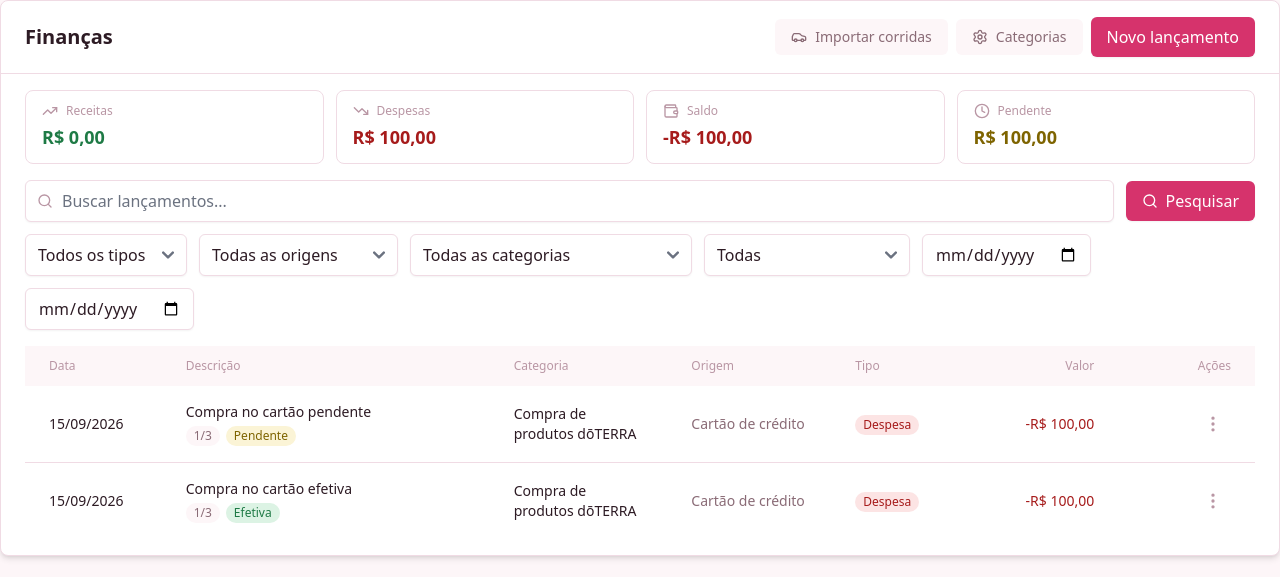
Finances effectiveness filter › refetches with effective=no and hides the effective rows
Expected: the text "Compra no cartão pendente" is shown, left=186, top=402, right=371, bottom=421
Select "Somente pendentes" in the dropdown named "Efetividade" at (807, 255), box left=704, top=234, right=910, bottom=276
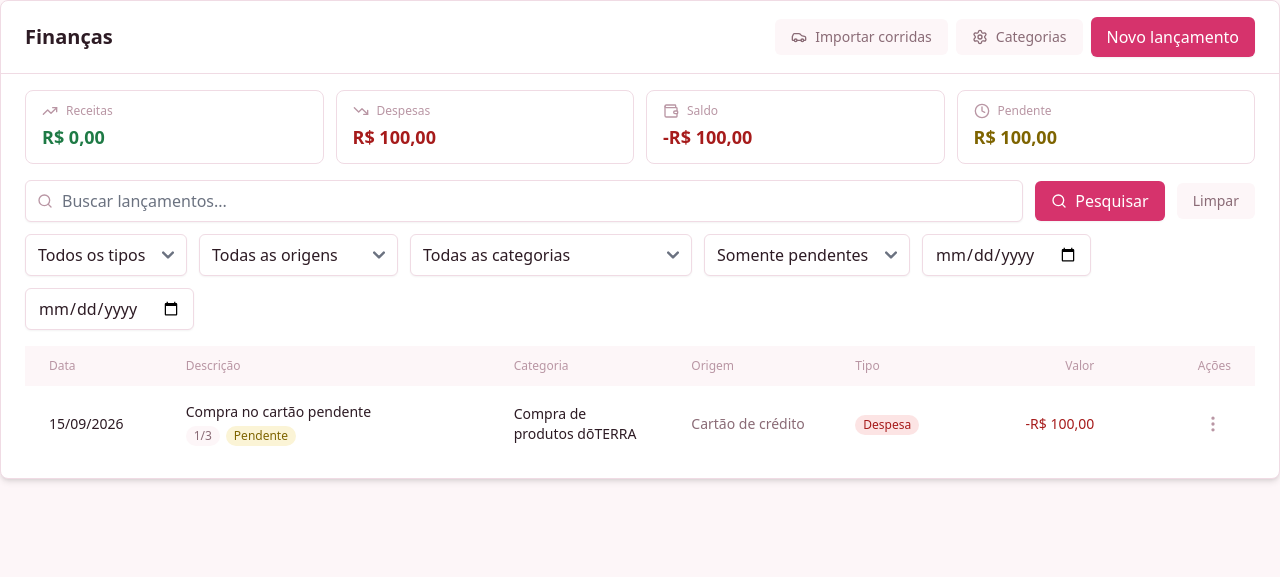
Expected: the text "Compra no cartão pendente" is shown, left=186, top=402, right=371, bottom=421
Now the text "Compra no cartão efetiva" is gone
